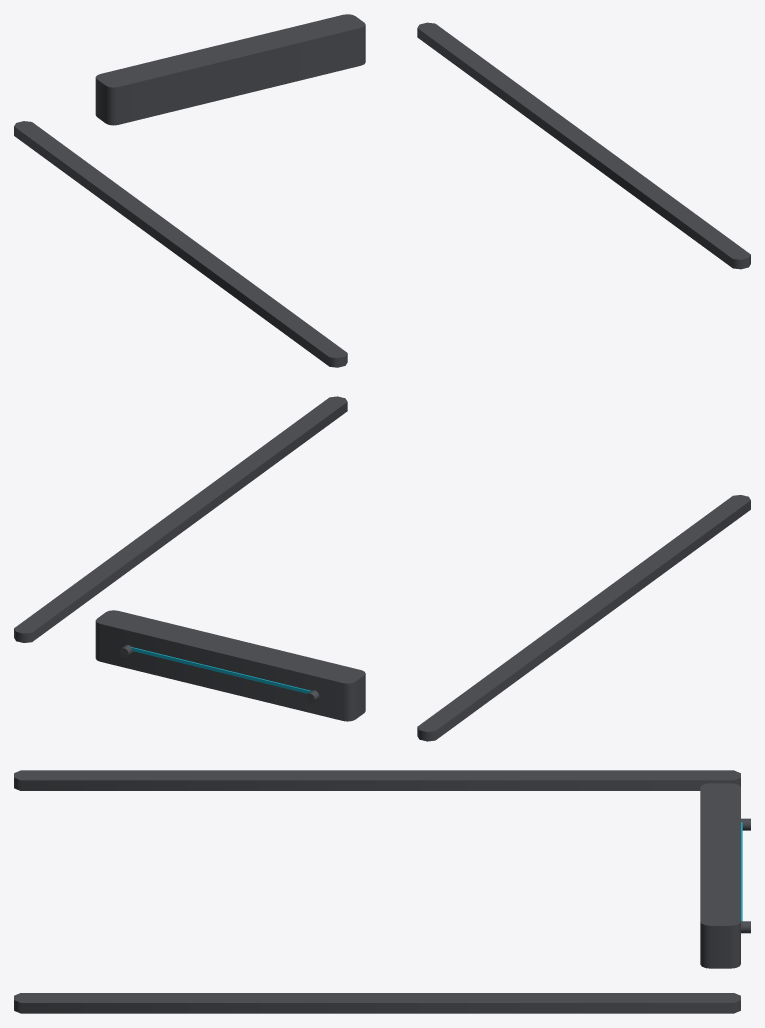
Rendered from c3_mount.obj.
The picture shows the model from 3 angles, top to bottom: view 1: azimuth 30°, elevation 25°; view 2: azimuth 150°, elevation 25°; view 3: azimuth 270°, elevation 25°; orthographic projection. The views are drawn at different scales.
Parts seen in each view (by area): view 1: c3_mount; view 2: c3_mount; view 3: c3_mount.
Part boxes in pixels (<box>): c3_mount: <box>14,14,750,367</box>; c3_mount: <box>14,396,750,741</box>; c3_mount: <box>14,770,750,1013</box>.
Size of the model in its own units: 1.63 by 0.14 by 2.18.
